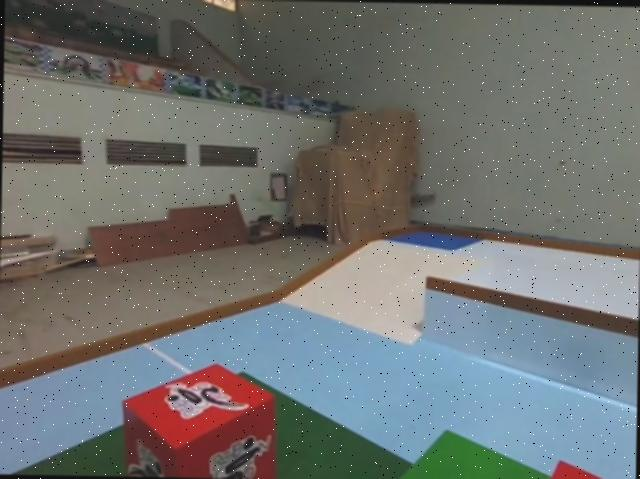R1: (120, 362, 272, 479)
